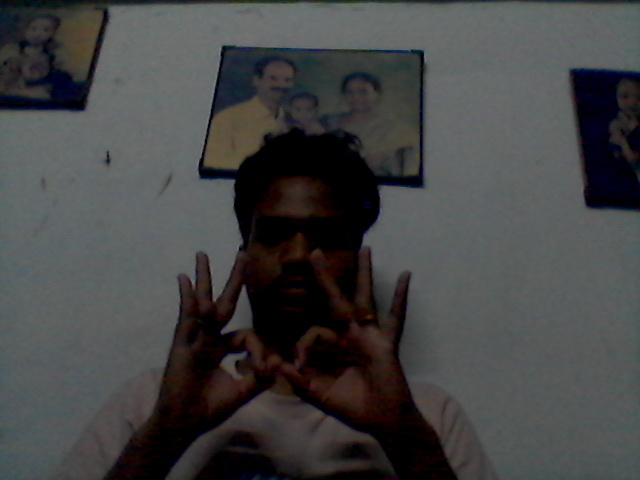How are you: (163, 240, 420, 437)
